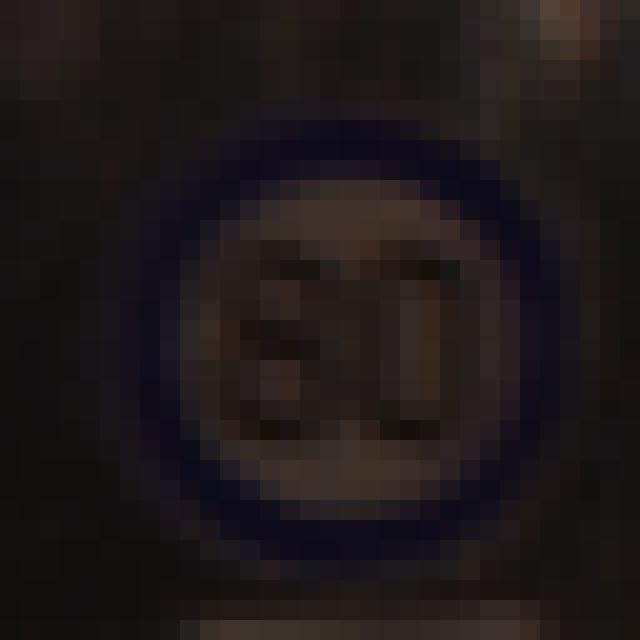SPEED-LIMIT-80: (114, 124, 550, 534)
